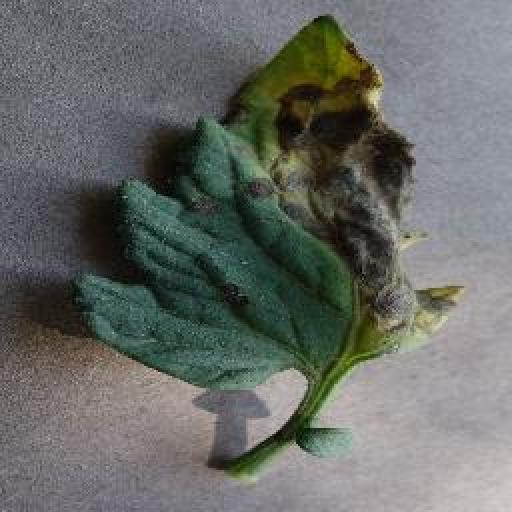Early Blight: (84, 15, 471, 392)
